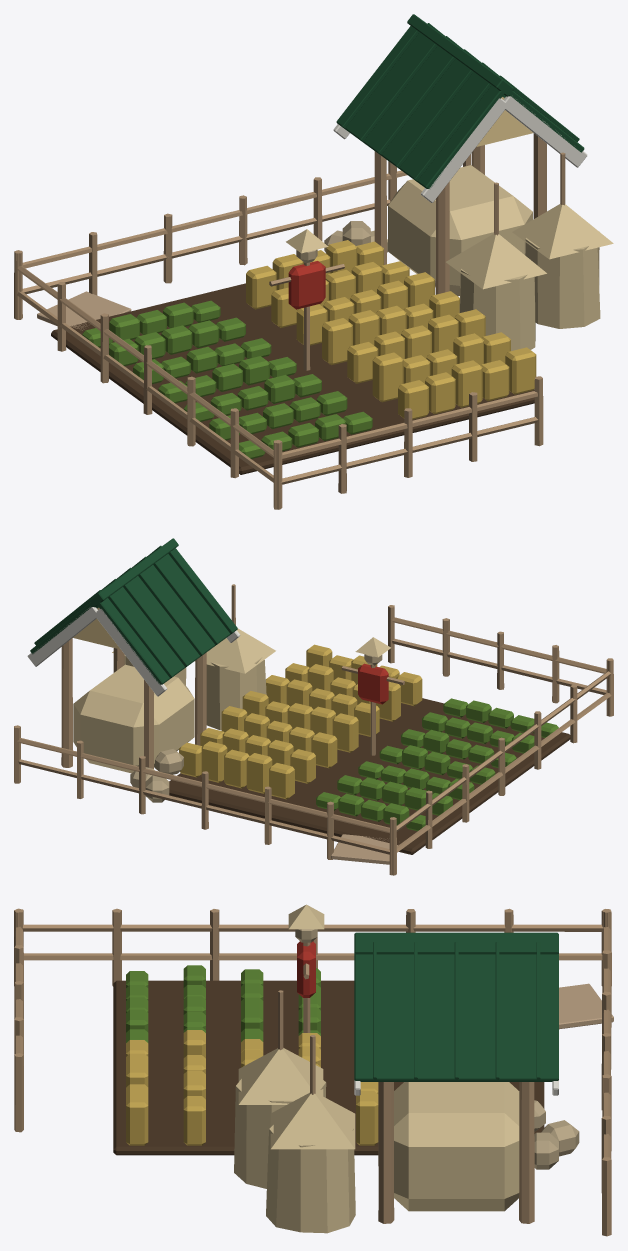
Rendered from bld_ferma_e2.glb.
3 renders of one model, top to bottom at view 1: azimuth 30°, elevation 25°; view 2: azimuth 150°, elevation 25°; view 3: azimuth 270°, elevation 25°, orthographic. The views are drawn at different scales.
Parts seen in each view (by area): view 1: ferma; view 2: ferma; view 3: ferma.
Boxes of the visible parts, x1,y1,x2,y2 form: ferma: (14, 14, 613, 509); ferma: (14, 538, 613, 875); ferma: (14, 904, 613, 1236).
Bounding box in the file's own units: 1.89 × 0.8961 × 1.88.
